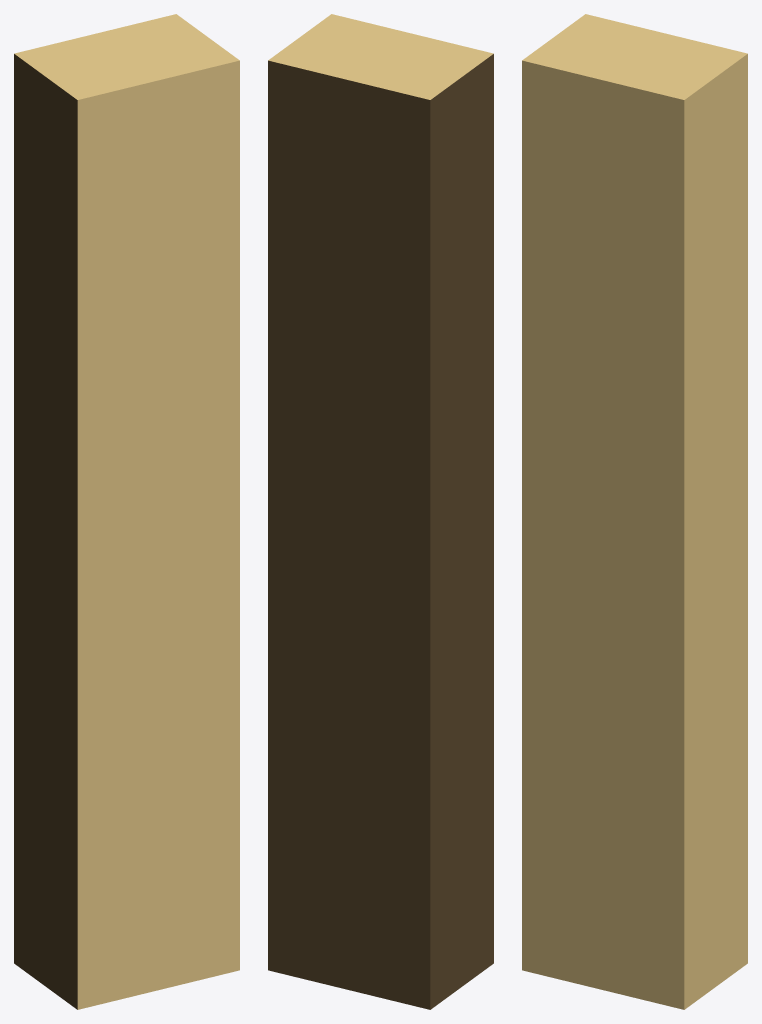
Rendered from SalleRandom_Coin00.fbx.
3 renders of one model, left to right at view 1: azimuth 30°, elevation 25°; view 2: azimuth 150°, elevation 25°; view 3: azimuth 330°, elevation 25°, orthographic.
Visible parts, largest first — view 1: Coin00; view 2: Coin00; view 3: Coin00.
Boxes of the visible parts, <box> form: Coin00: <box>14,14,239,1009</box>; Coin00: <box>268,14,493,1009</box>; Coin00: <box>522,14,747,1009</box>.
Bounding box in the file's own units: 1.21 × 6.49 × 0.8215.
